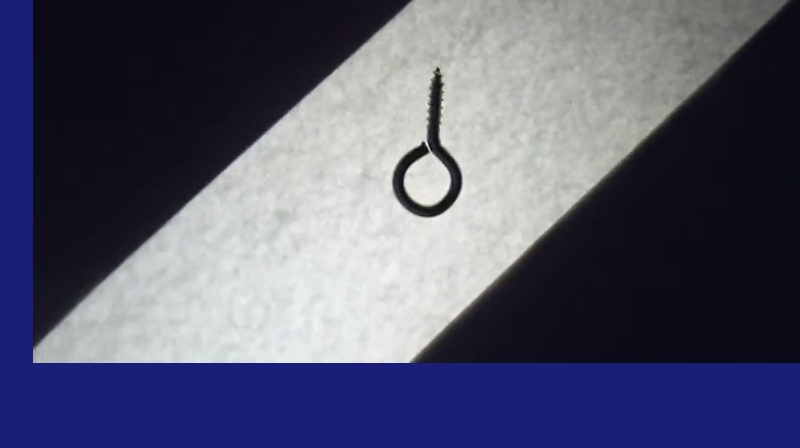O001: (389, 61, 464, 217)
